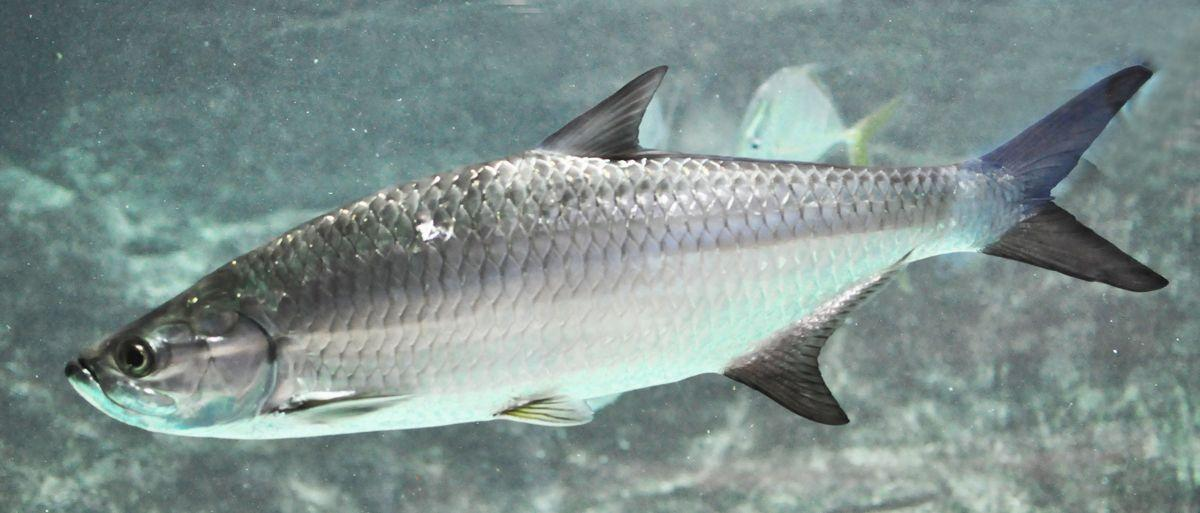Indo-Pacific Tarpon: (62, 53, 1172, 445)
